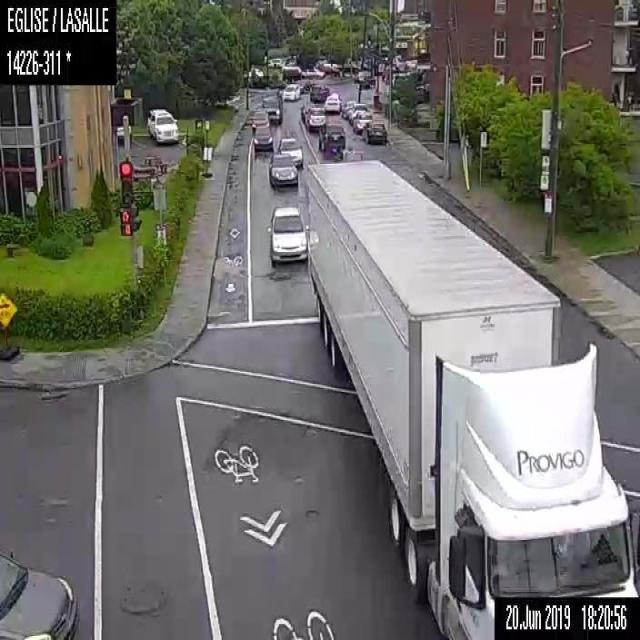vehicle: (300, 159, 639, 639), (0, 553, 77, 638), (266, 204, 307, 264), (145, 108, 179, 144), (268, 150, 298, 189), (318, 121, 345, 152), (277, 134, 303, 164), (262, 93, 282, 123), (363, 118, 385, 144), (253, 121, 271, 150), (352, 110, 372, 132), (300, 100, 319, 122), (298, 62, 324, 78), (348, 102, 367, 123), (306, 108, 325, 127), (323, 94, 342, 113), (309, 84, 329, 101), (342, 98, 358, 118), (281, 84, 300, 99), (296, 78, 312, 92), (354, 69, 370, 81)
